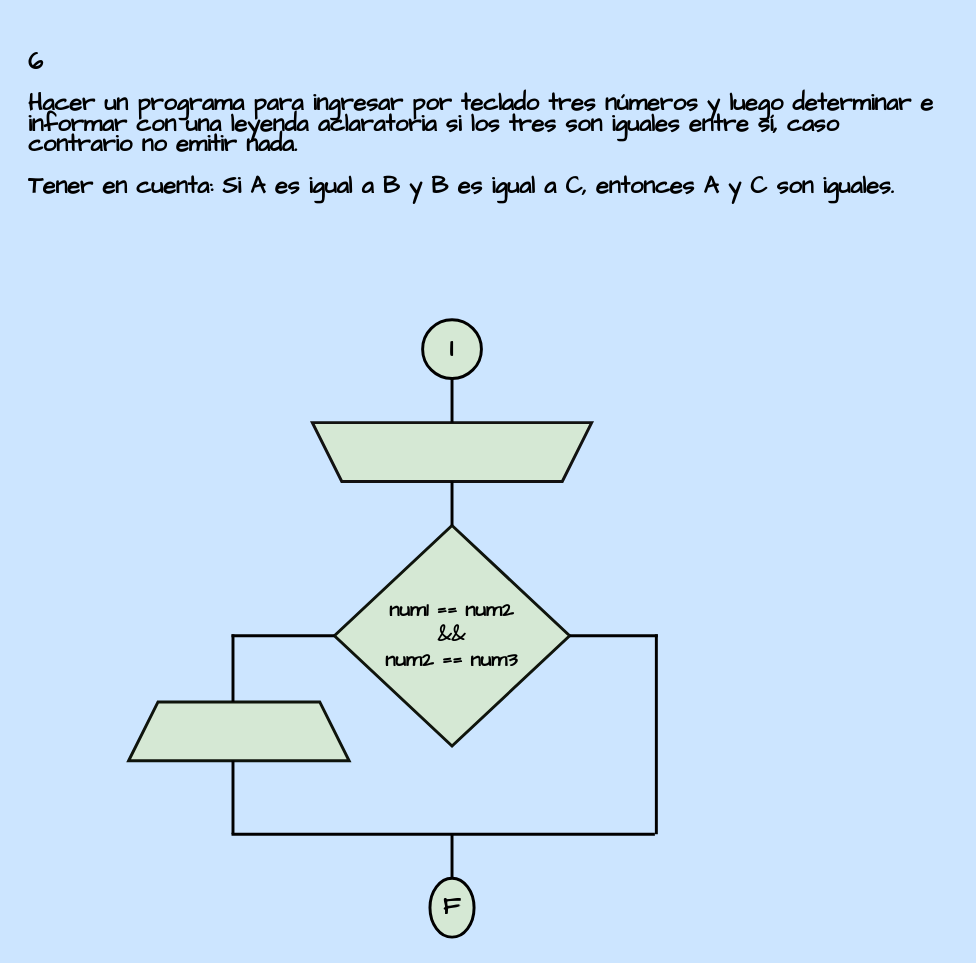
This 976x963 diagram has some shape labels left out. Here are the shapes that lost their labels. From the top down, the centre of each, then its label:
At (451,451): "num1, num2. num3".
At (238,730): "son_iguales".
